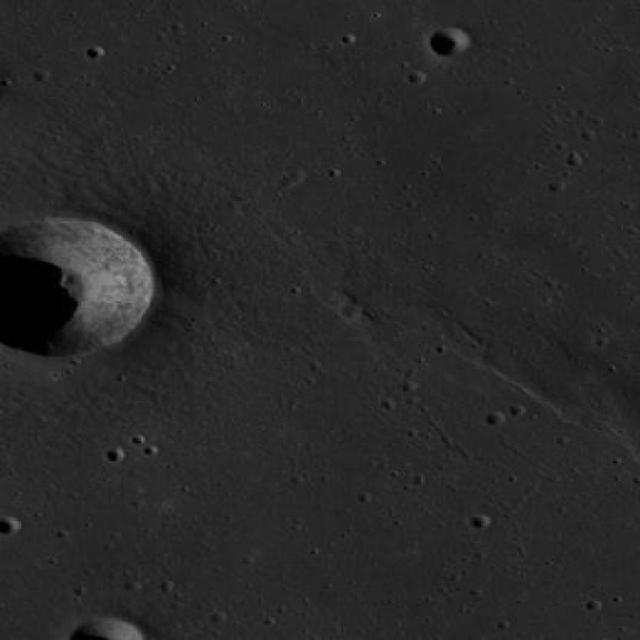crater: (0, 216, 152, 357), (430, 27, 468, 55), (0, 514, 20, 534)
